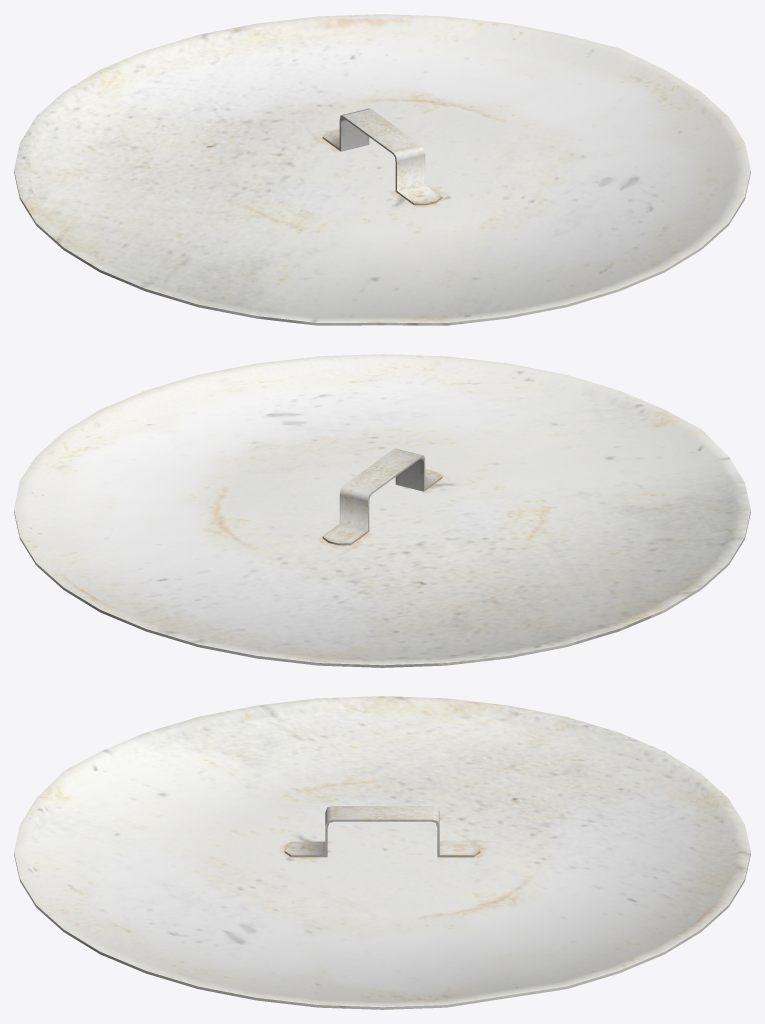
Rendered from Pan01_Cap01.FBX.
3 renders of one model, top to bottom at view 1: azimuth 30°, elevation 25°; view 2: azimuth 150°, elevation 25°; view 3: azimuth 270°, elevation 25°, orthographic.
Parts seen in each view (by area): view 1: Pan01_Cap01_LOD0; view 2: Pan01_Cap01_LOD0; view 3: Pan01_Cap01_LOD0.
Boxes of the visible parts, left/top/right/bottom form: Pan01_Cap01_LOD0: left=14, top=14, right=750, bottom=325; Pan01_Cap01_LOD0: left=14, top=354, right=750, bottom=667; Pan01_Cap01_LOD0: left=14, top=696, right=750, bottom=1009.
Bounding box in the file's own units: 20.96 × 20.98 × 1.44.
